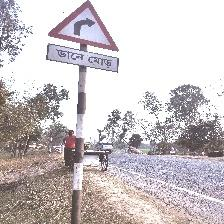Right-turn: (46, 0, 121, 74)
